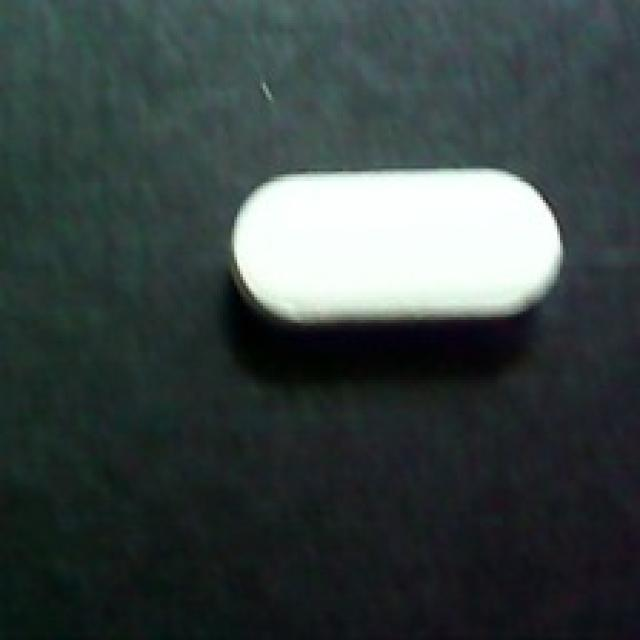no-defect: (226, 163, 569, 363)
